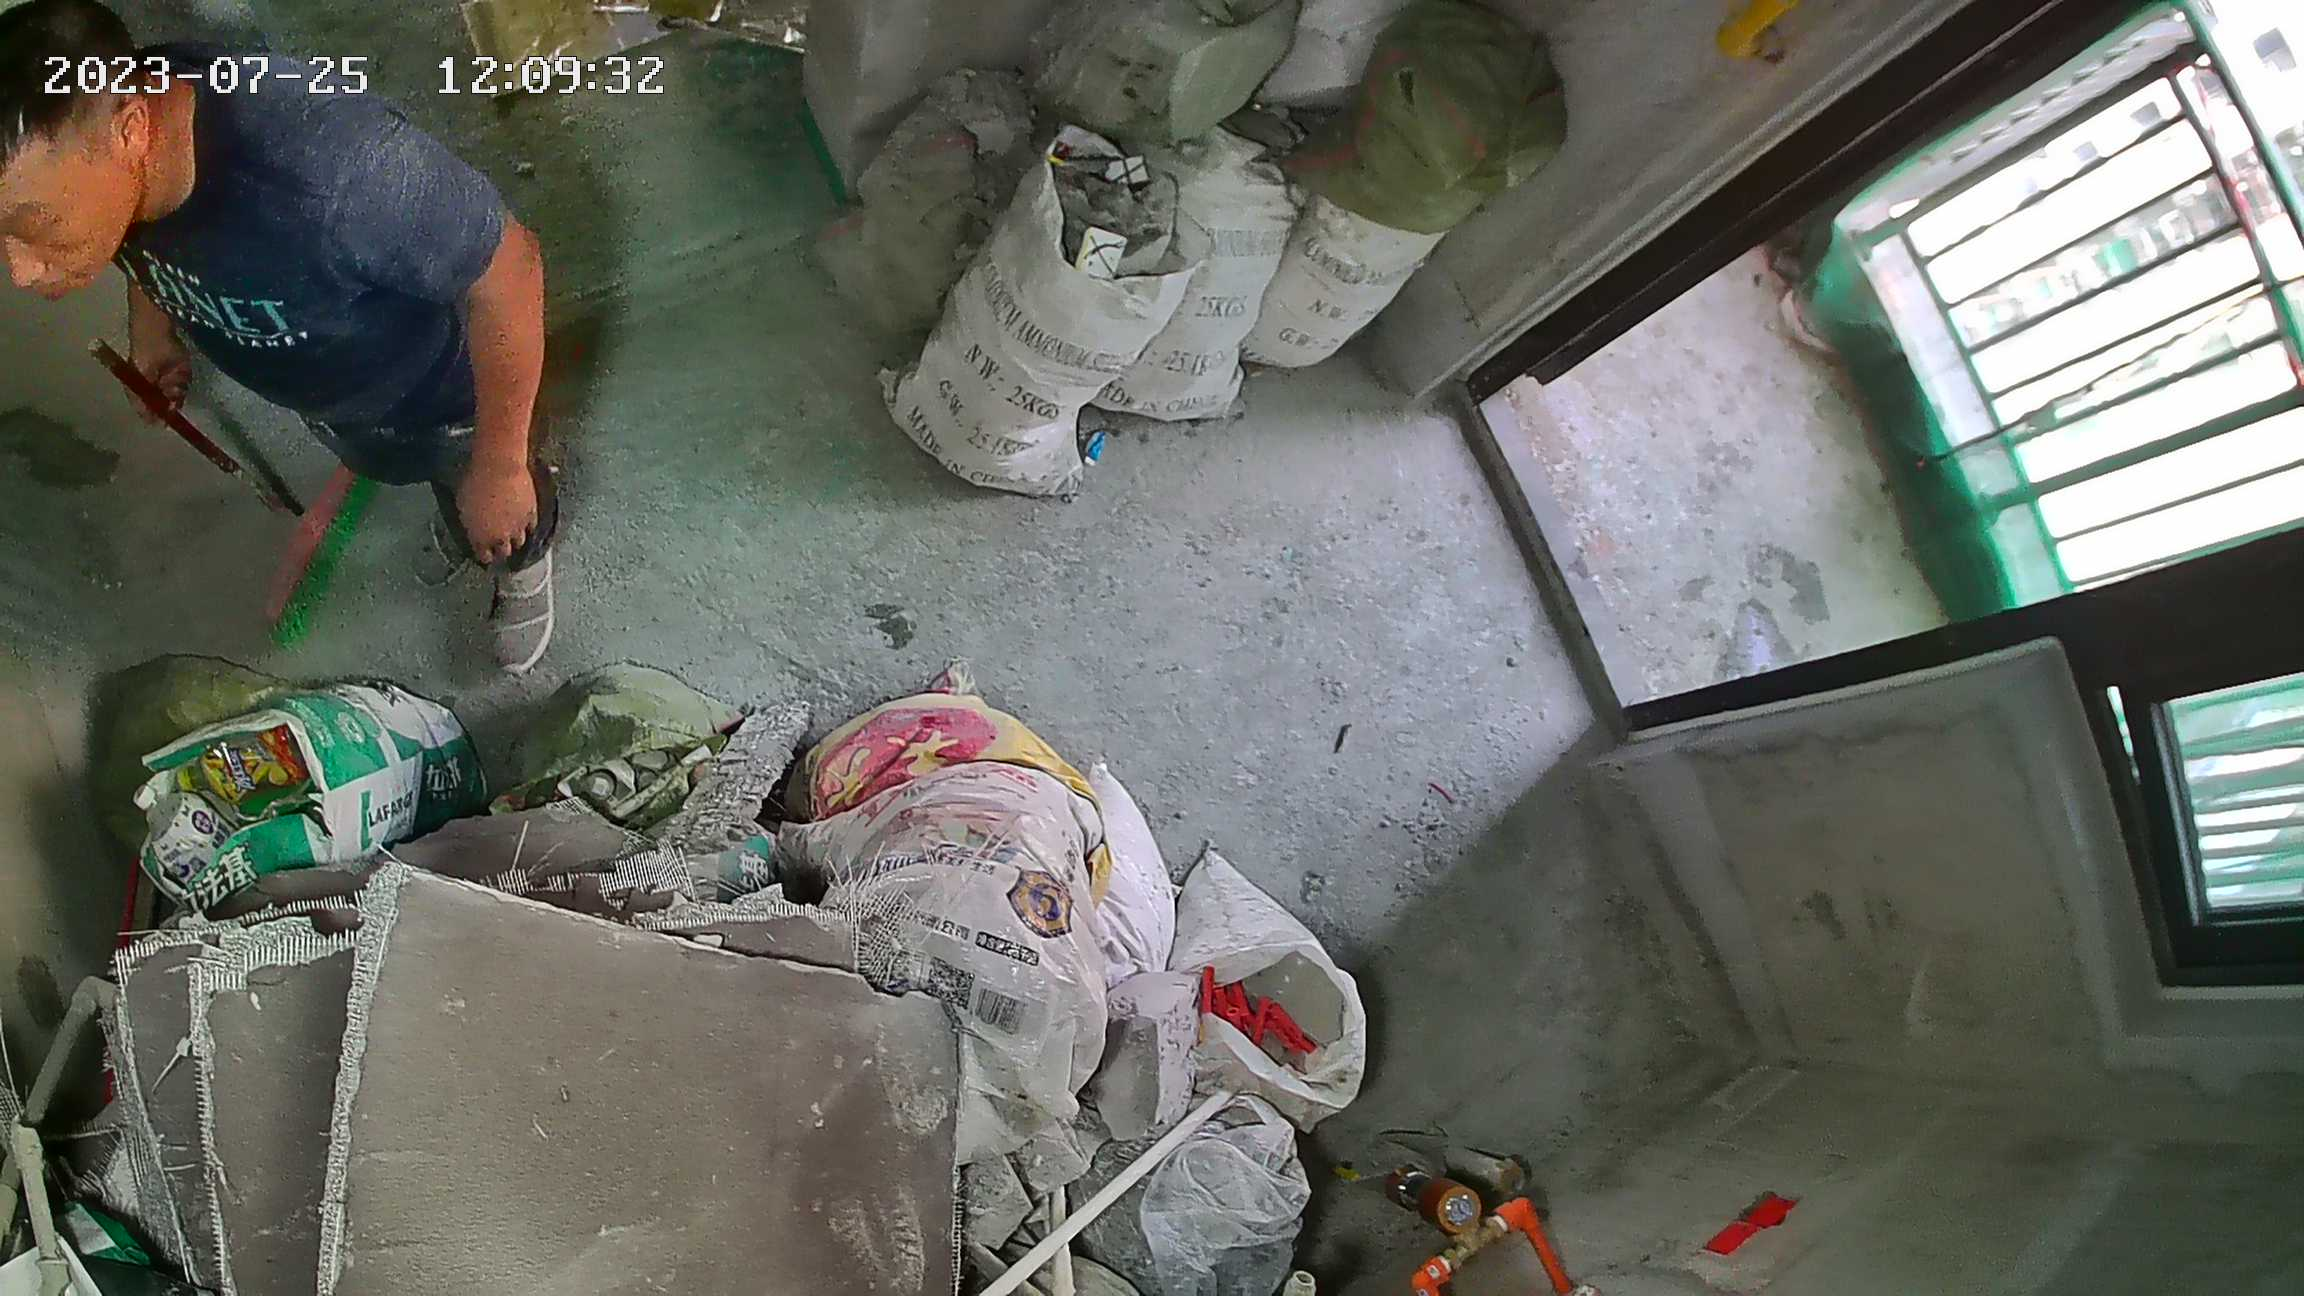people: (5, 1, 567, 676)
window: (1804, 8, 2304, 916)
